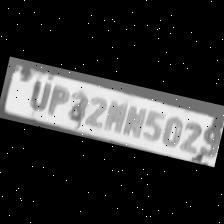0: (158, 111, 185, 149)
2: (177, 116, 205, 155), (82, 92, 110, 130)
3: (62, 86, 90, 124)
5: (138, 105, 166, 143)
9: (196, 120, 223, 157)
M: (101, 96, 128, 133)
N: (120, 102, 146, 138)
P: (44, 82, 70, 118)
U: (22, 76, 52, 113)
